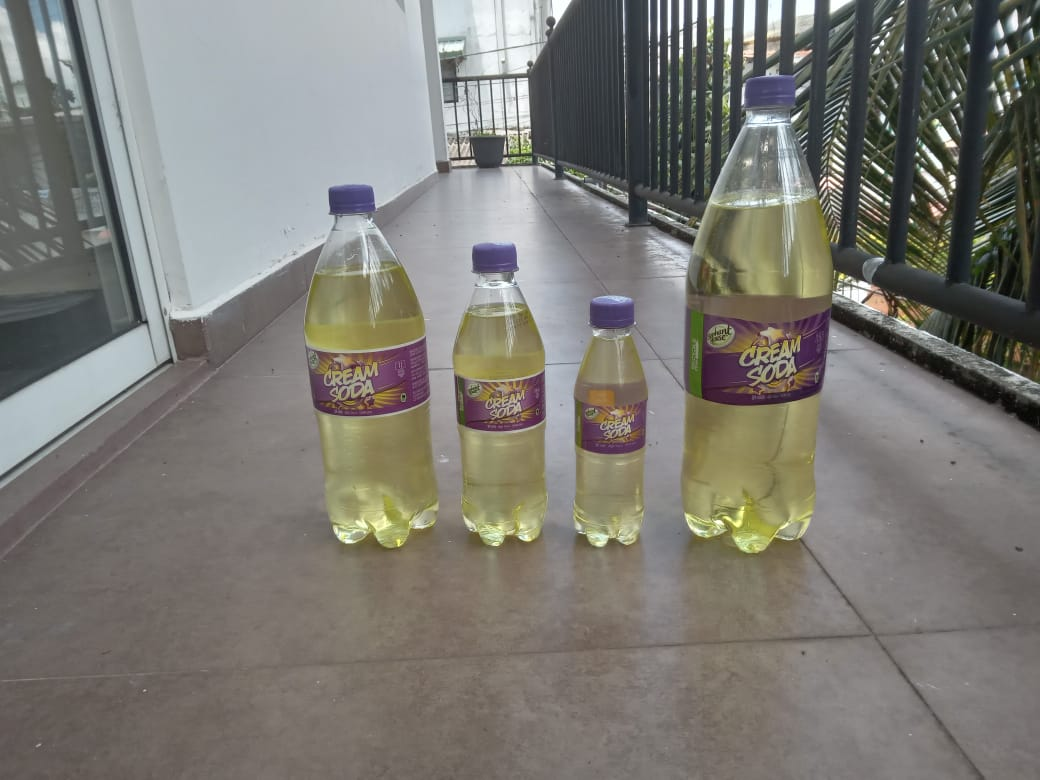L: (680, 78, 837, 557)
M: (301, 185, 445, 548)
S: (451, 242, 548, 548)
Xs: (572, 297, 650, 545)
